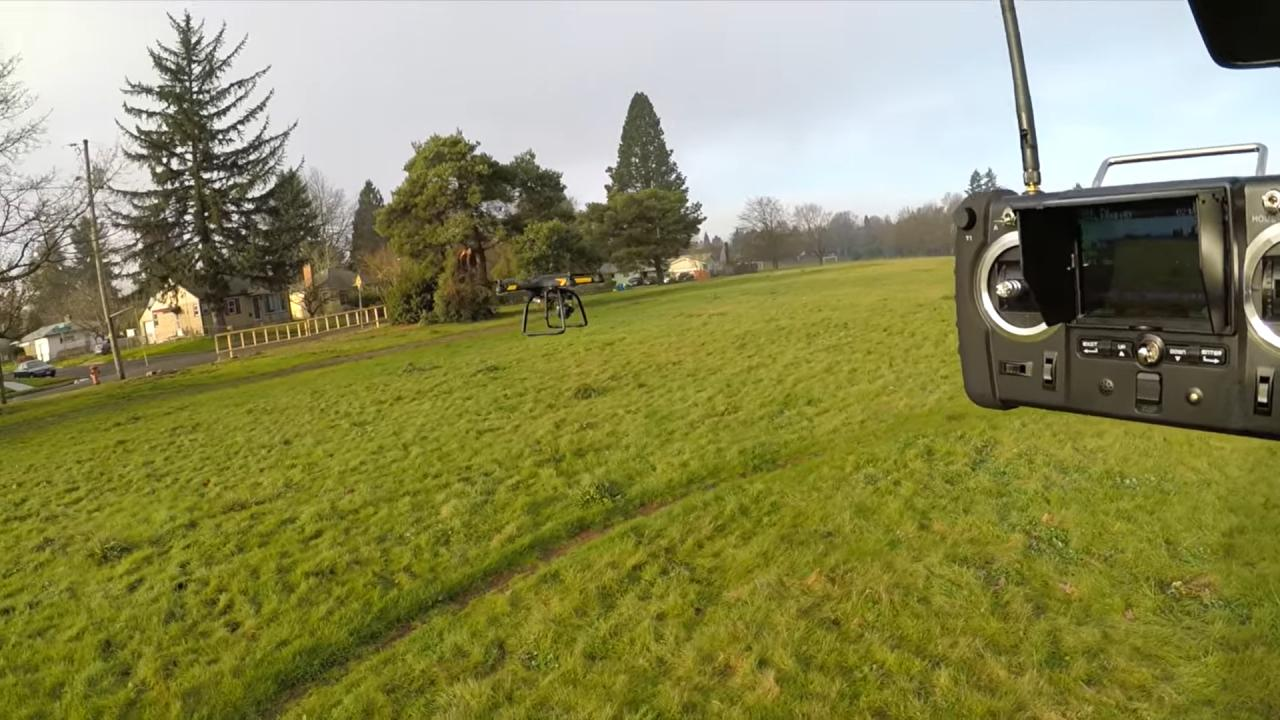Drone: (474, 267, 615, 347)
